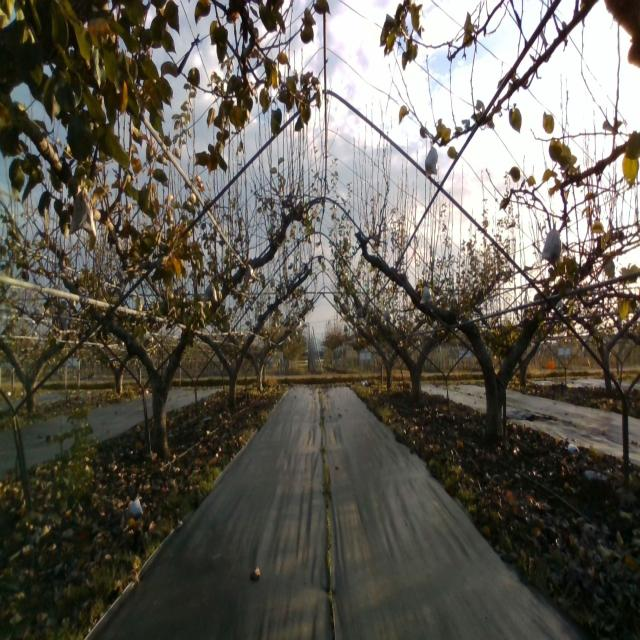pearbags: (68, 186, 96, 237), (541, 223, 562, 267), (424, 142, 438, 178), (420, 283, 434, 307), (204, 282, 218, 303), (245, 263, 256, 286)
